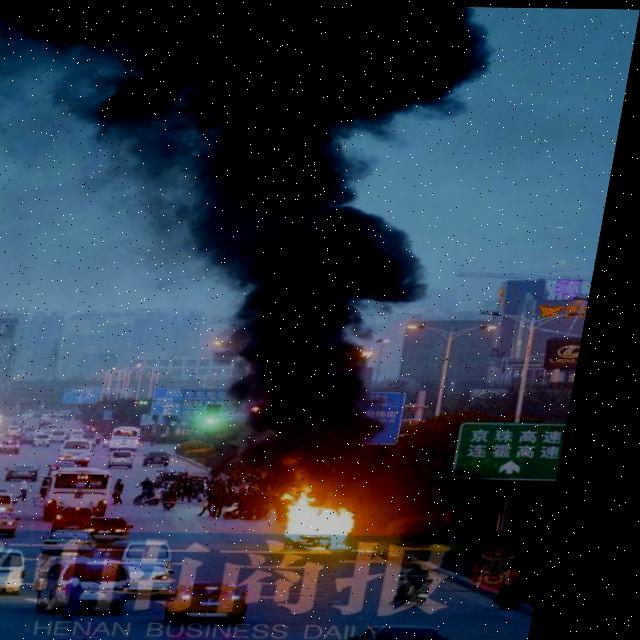Fire: (294, 484, 381, 550)
